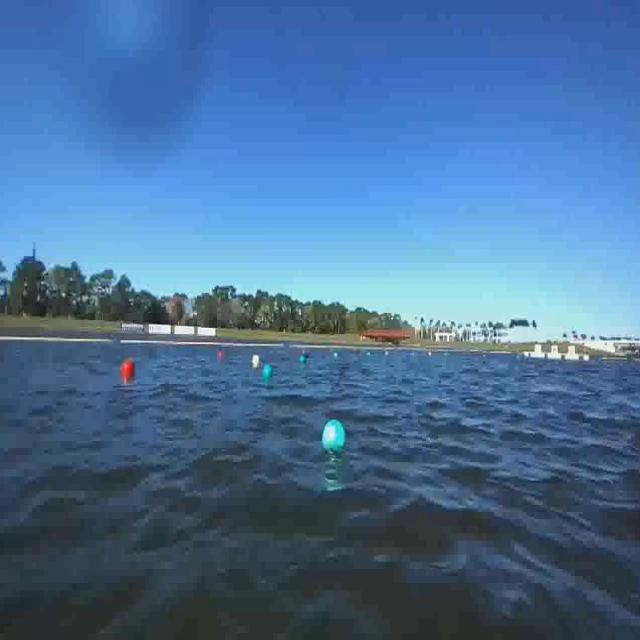green-buoy: (321, 421, 346, 456), (265, 363, 273, 378)
red-buoy: (122, 359, 136, 379), (218, 351, 224, 359)
